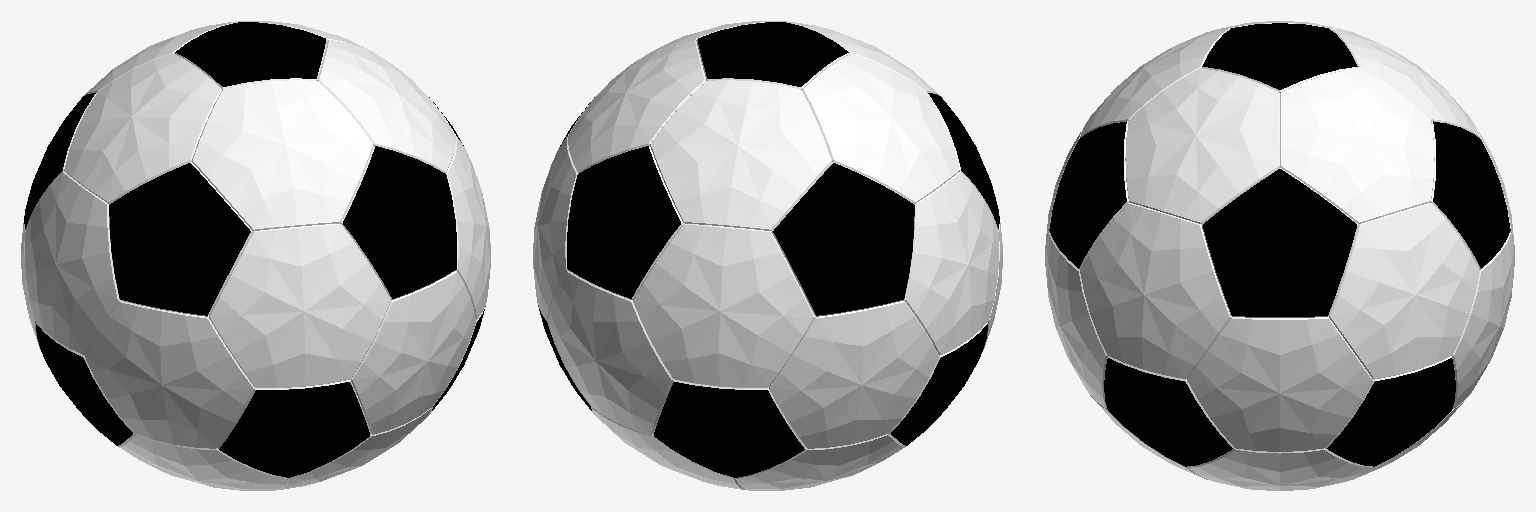
The picture shows the model from 3 angles: view 1: azimuth 30°, elevation 25°; view 2: azimuth 150°, elevation 25°; view 3: azimuth 270°, elevation 25°; orthographic projection.
Parts seen in each view (by area): view 1: ICO球; view 2: ICO球; view 3: ICO球.
Boxes of the visible parts, x1,y1,x2,y2 form: ICO球: [21, 21, 490, 490]; ICO球: [533, 21, 1002, 490]; ICO球: [1045, 21, 1514, 490].
Bounding box in the file's own units: 9.16 × 9.16 × 9.16.
1 materials, 1 textured.